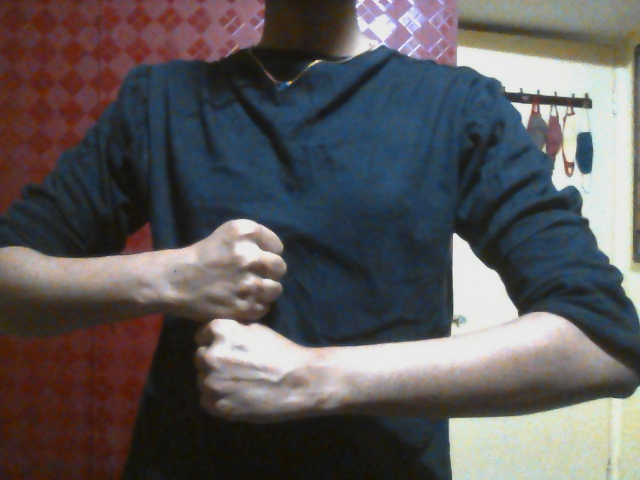G: (186, 215, 301, 426)
